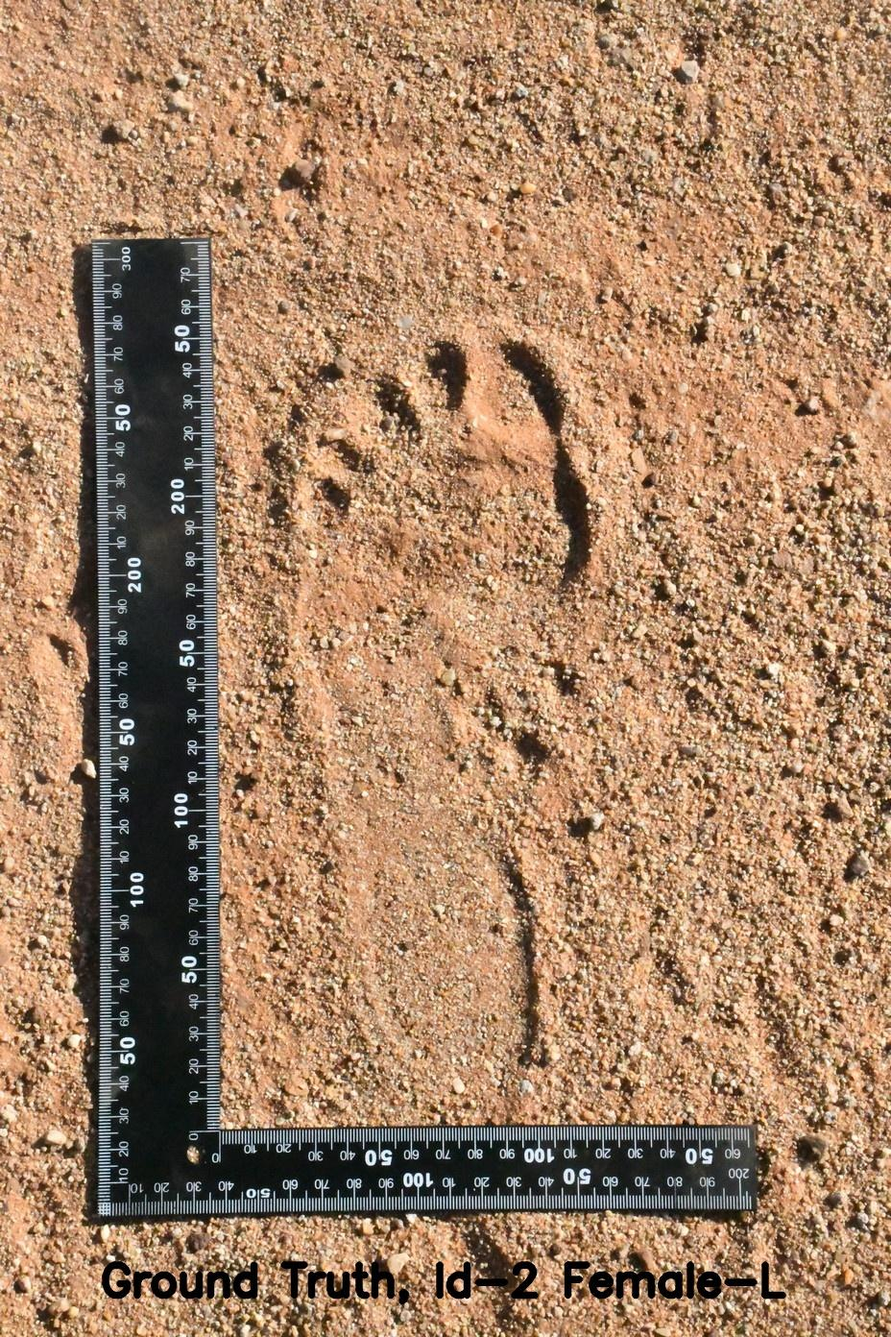human_footprint: (247, 273, 669, 1110)
